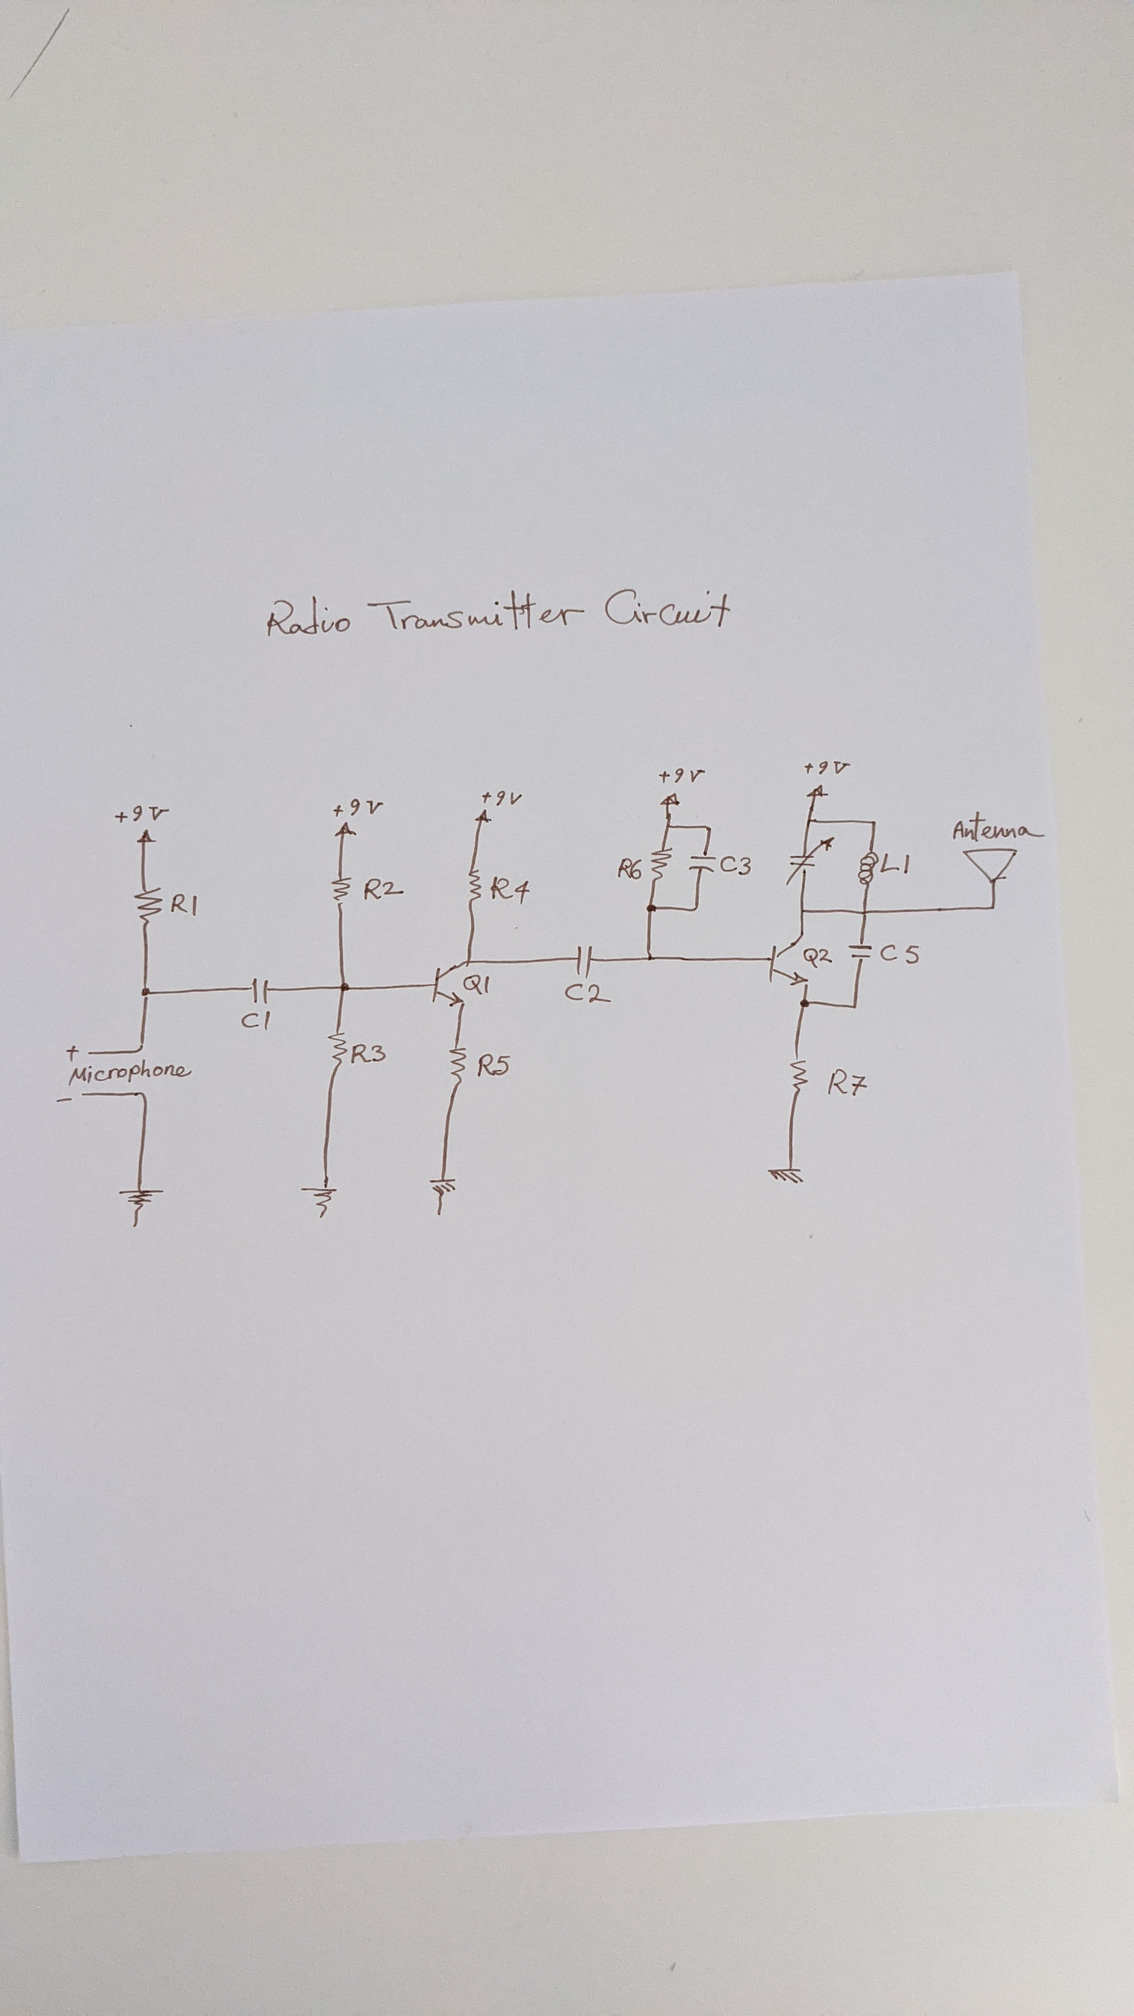antenna: (961, 845, 1020, 886)
capacitor.unpolarized: (785, 836, 836, 886), (575, 943, 595, 980), (248, 975, 271, 1007), (687, 852, 717, 875), (846, 942, 874, 964)
gnd: (118, 1185, 166, 1230), (298, 1182, 341, 1221), (426, 1176, 458, 1218), (766, 1164, 809, 1187)
inductor: (856, 849, 881, 886)
junction: (138, 984, 154, 1000), (338, 980, 352, 993), (645, 901, 658, 915), (858, 907, 872, 919), (645, 948, 656, 964), (137, 1090, 150, 1102), (798, 998, 811, 1009), (136, 1043, 147, 1055), (690, 903, 702, 914), (703, 822, 716, 834), (798, 906, 809, 917), (989, 901, 998, 912), (663, 821, 674, 831), (804, 816, 816, 824), (850, 1002, 860, 1011), (870, 818, 879, 827)
resistor: (132, 885, 165, 930), (649, 845, 676, 883), (447, 1043, 469, 1088), (788, 1054, 810, 1094), (325, 1027, 348, 1068), (330, 875, 354, 908), (465, 868, 485, 906)
terminal: (84, 1048, 96, 1058), (79, 1088, 87, 1099)
text: (264, 586, 735, 640), (66, 1058, 195, 1087), (951, 810, 1047, 842), (825, 1066, 870, 1098), (489, 874, 533, 906), (564, 980, 615, 1007), (114, 803, 172, 825), (332, 798, 385, 820), (361, 876, 406, 901), (656, 766, 708, 786), (475, 1052, 512, 1079), (878, 942, 922, 964), (803, 759, 853, 777), (349, 1043, 388, 1065), (169, 892, 199, 919), (879, 852, 912, 876), (615, 856, 645, 882), (719, 854, 755, 876), (240, 1008, 271, 1033), (480, 789, 523, 807), (461, 972, 492, 997), (802, 946, 834, 969), (64, 1044, 80, 1063), (54, 1092, 76, 1106)
transistor: (767, 930, 810, 987), (431, 955, 474, 1009)
vss: (332, 820, 359, 839), (659, 791, 683, 807), (804, 784, 829, 799), (136, 827, 156, 845), (474, 809, 494, 824)
